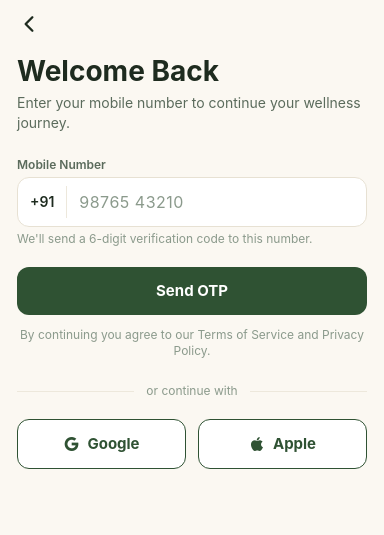
Test: LoginScreen › shows a mock notice instead of navigating for social login buttons
The width and height of the screenshot is (384, 535).
Click the button "Google". click: (102, 444)
box: x1=17 y1=419 x2=186 y2=469
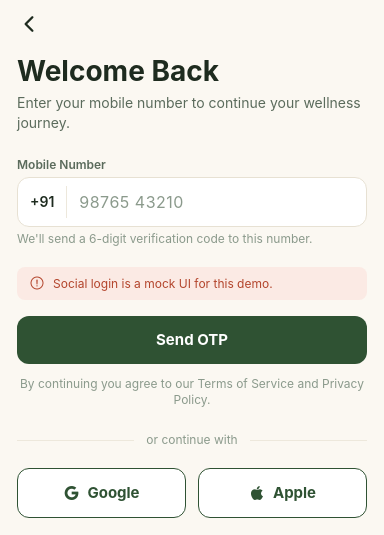
Check: the text "Social login is a mock UI for this demo." is shown, box x1=53 y1=276 x2=273 y2=290
